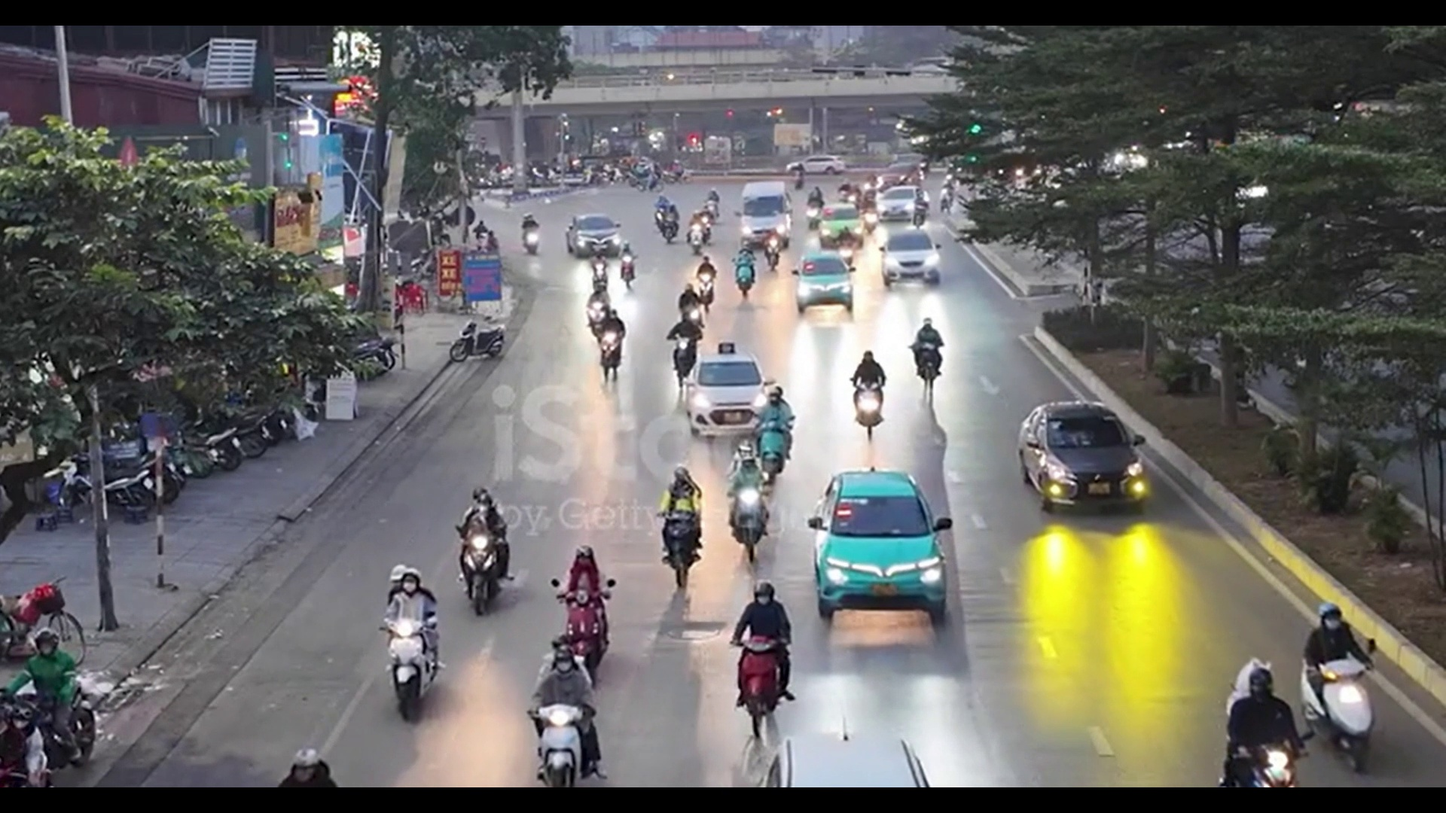car: (808, 469, 951, 622), (1018, 400, 1150, 508), (682, 355, 766, 435), (793, 253, 856, 312), (884, 228, 942, 285), (566, 214, 624, 260)
motorcycle: (1304, 662, 1376, 769), (384, 616, 441, 722), (460, 532, 508, 617), (658, 512, 703, 594), (728, 470, 769, 548), (912, 320, 946, 385)
